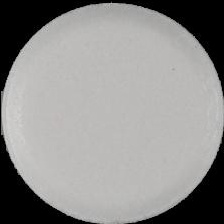64725-0772: (0, 0, 224, 224)
